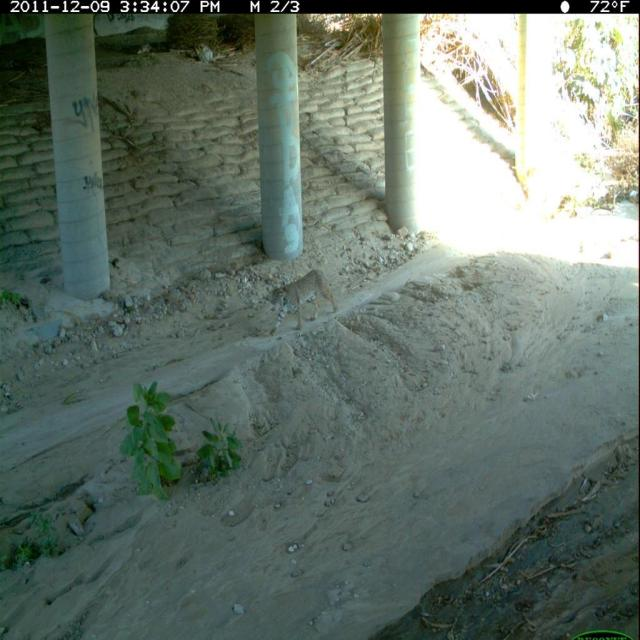bobcat: (266, 265, 343, 341)
